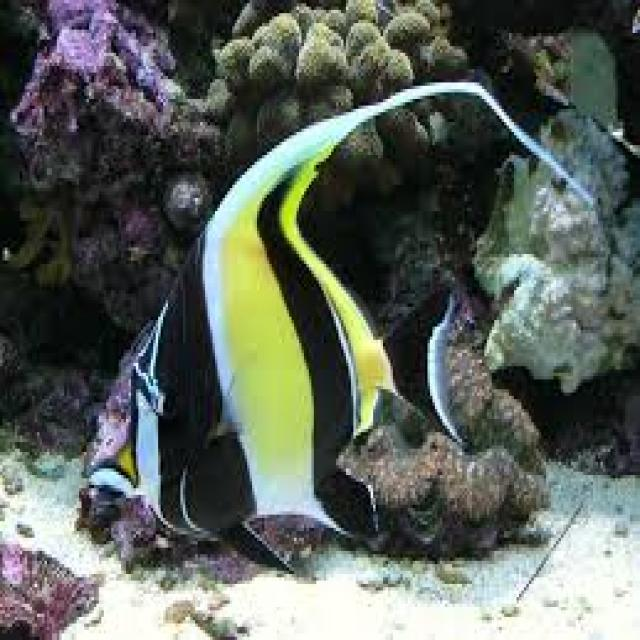MorishIdol: (81, 76, 596, 574)
